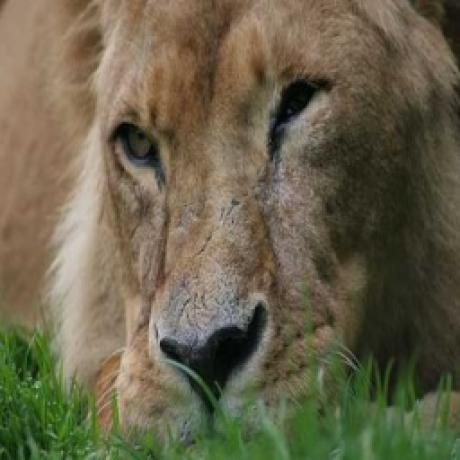Lion: (0, 0, 460, 449)
